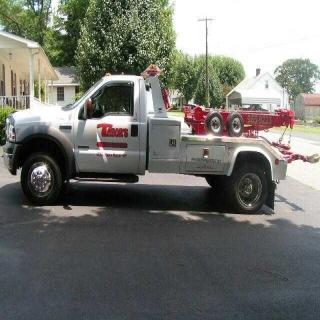Towing_truck: (2, 63, 294, 215)
